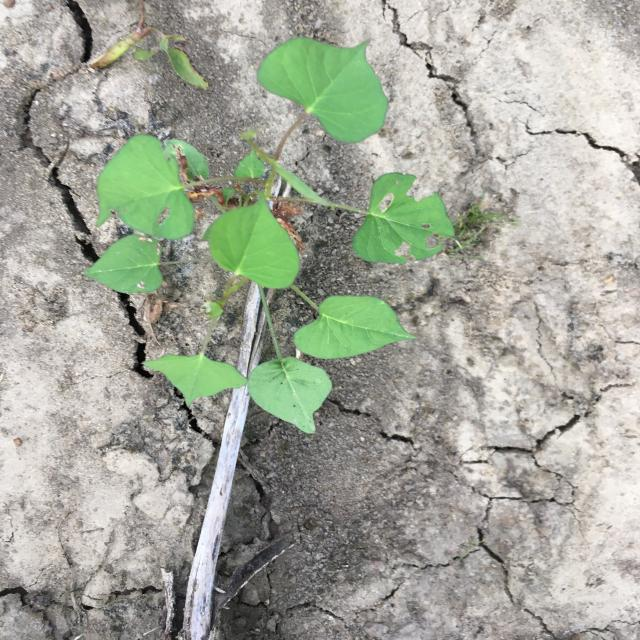MorningGlory: (80, 37, 456, 435)
